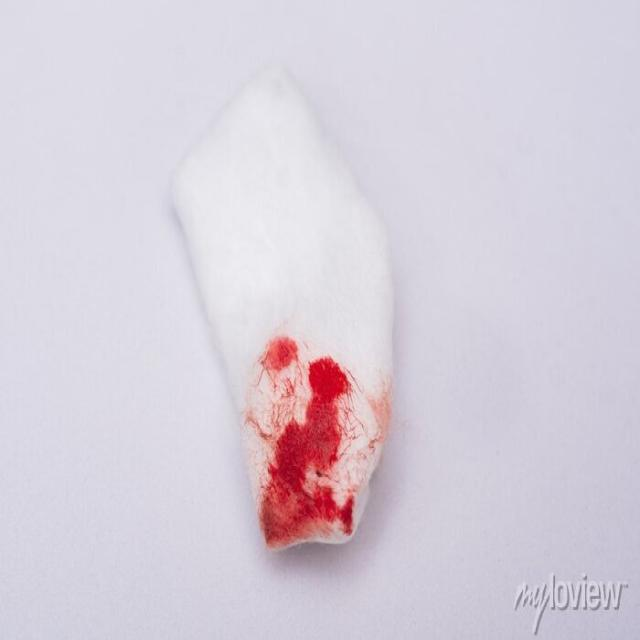B3: (164, 95, 403, 563)
